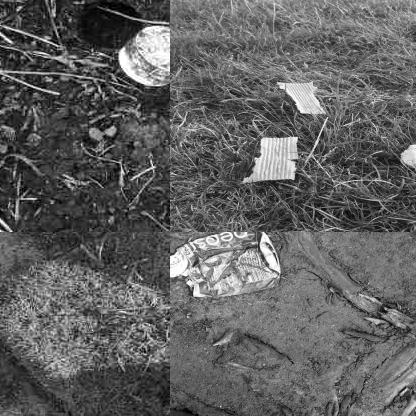cardboard: (248, 138, 300, 182), (273, 79, 323, 117)
metal: (170, 232, 289, 304)
plastic: (124, 19, 169, 90), (400, 144, 415, 170)
